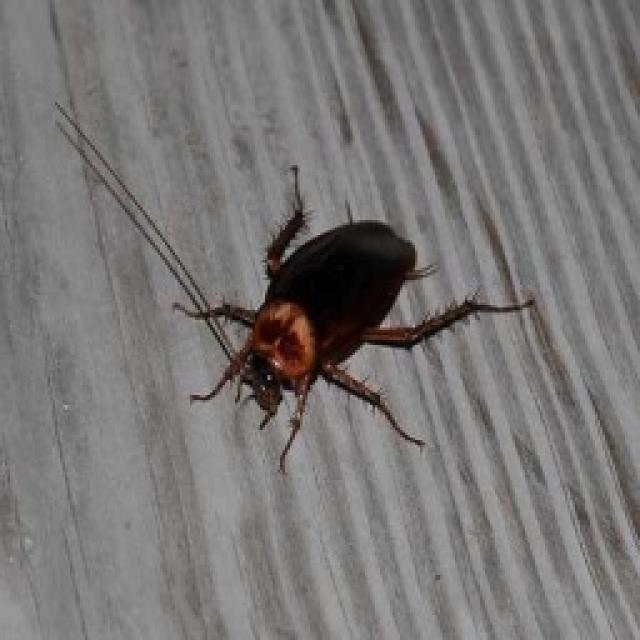cockroach: (172, 180, 460, 434)
